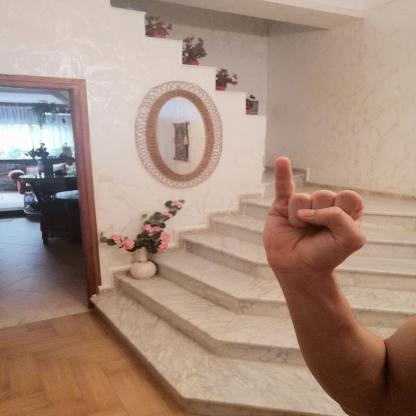MEEM: (245, 142, 386, 285)
